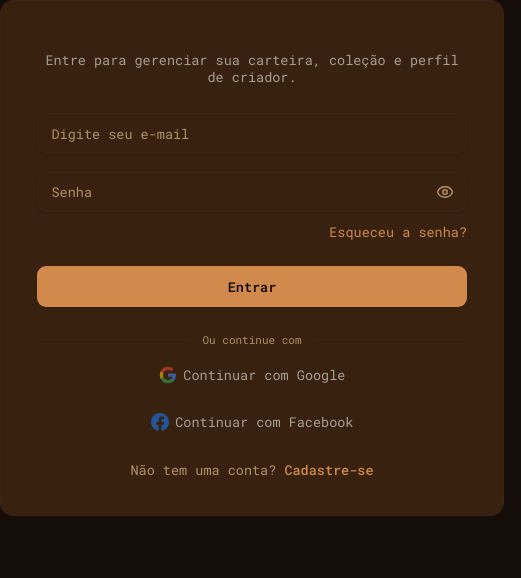
Formulário de Login (src/features/auth/LoginForm.tsx) › deve exibir erros de validação acessíveis quando submetido com campos vazios
Click the submit button.
click(252, 287)  # box [37,266,467,307]
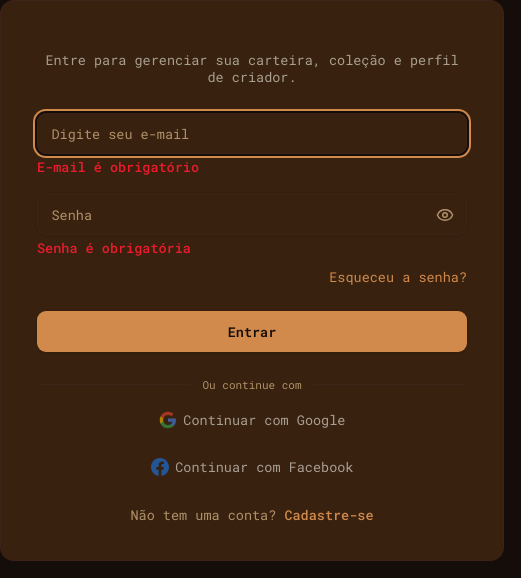
Check: the message with id "login-email-error" reads "E-mail é obrigatório", box [37,158,199,176]
Check: the message with id "login-password-error" reads "Senha é obrigatória", box [37,240,191,258]
